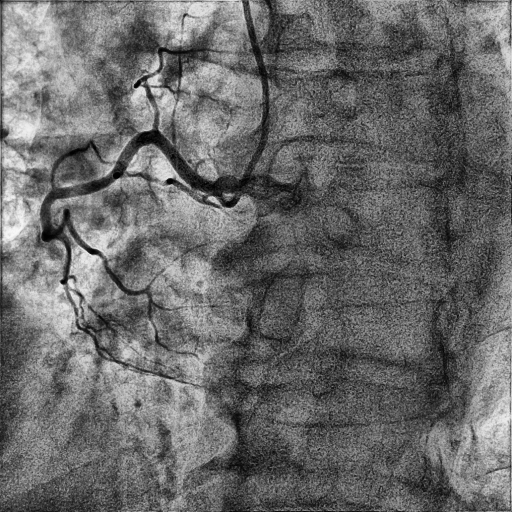rca: (40, 129, 220, 231)
